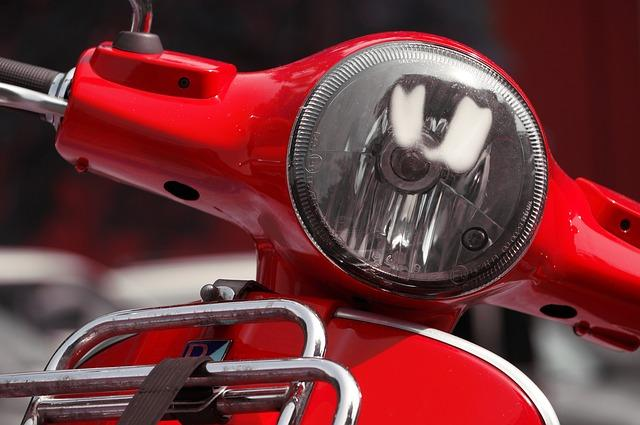Non_Gorille: (34, 0, 621, 416)
